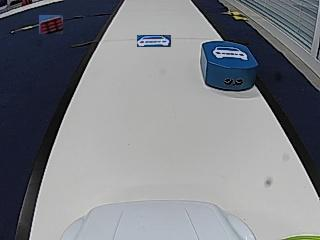safety: (212, 46, 248, 60)
